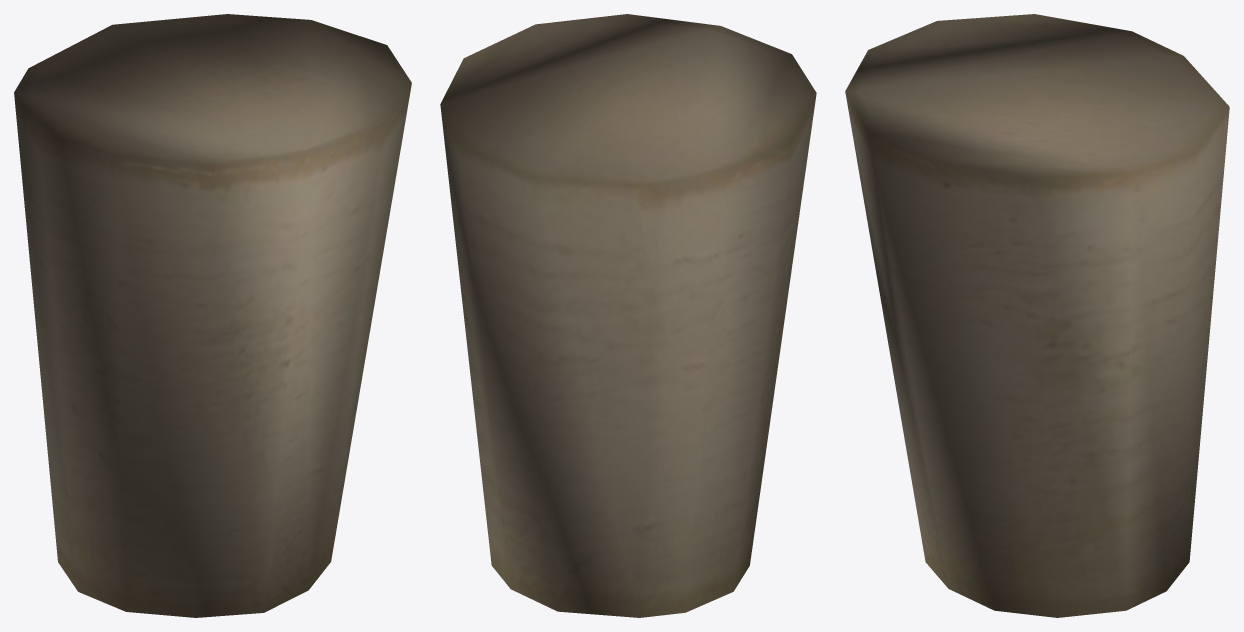
File: Tea Cups.fbx
The picture shows the model from 3 angles, left to right: view 1: azimuth 30°, elevation 25°; view 2: azimuth 150°, elevation 25°; view 3: azimuth 270°, elevation 25°; orthographic projection. The views are drawn at different scales.
Parts seen in each view (by area): view 1: tripo_node_36135147-0ee5-4ff6-a5ca-5f4c9a8d6351; view 2: tripo_node_36135147-0ee5-4ff6-a5ca-5f4c9a8d6351; view 3: tripo_node_36135147-0ee5-4ff6-a5ca-5f4c9a8d6351.
Part boxes in pixels (x1=…): tripo_node_36135147-0ee5-4ff6-a5ca-5f4c9a8d6351: x1=14, y1=14, x2=411, y2=617; tripo_node_36135147-0ee5-4ff6-a5ca-5f4c9a8d6351: x1=440, y1=14, x2=816, y2=617; tripo_node_36135147-0ee5-4ff6-a5ca-5f4c9a8d6351: x1=845, y1=14, x2=1229, y2=617.
Bounding box in the file's own units: 13.28 × 17.77 × 13.09.
Materials: 1 (1 with a texture image).
